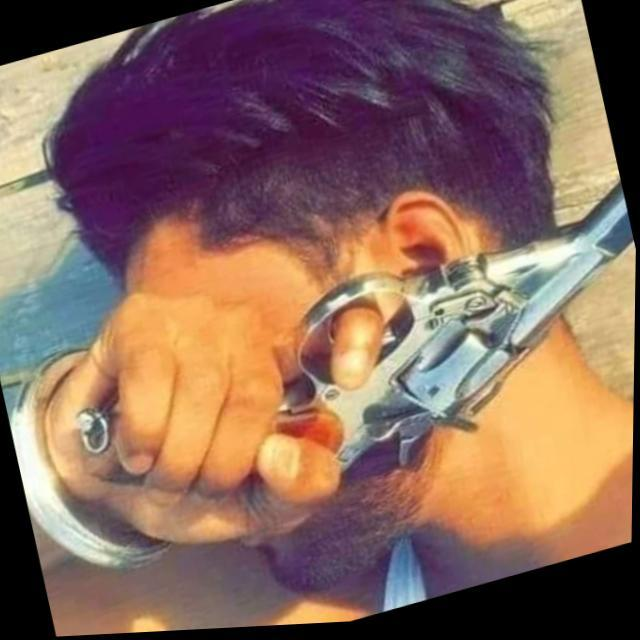weapon: (38, 173, 638, 574)
